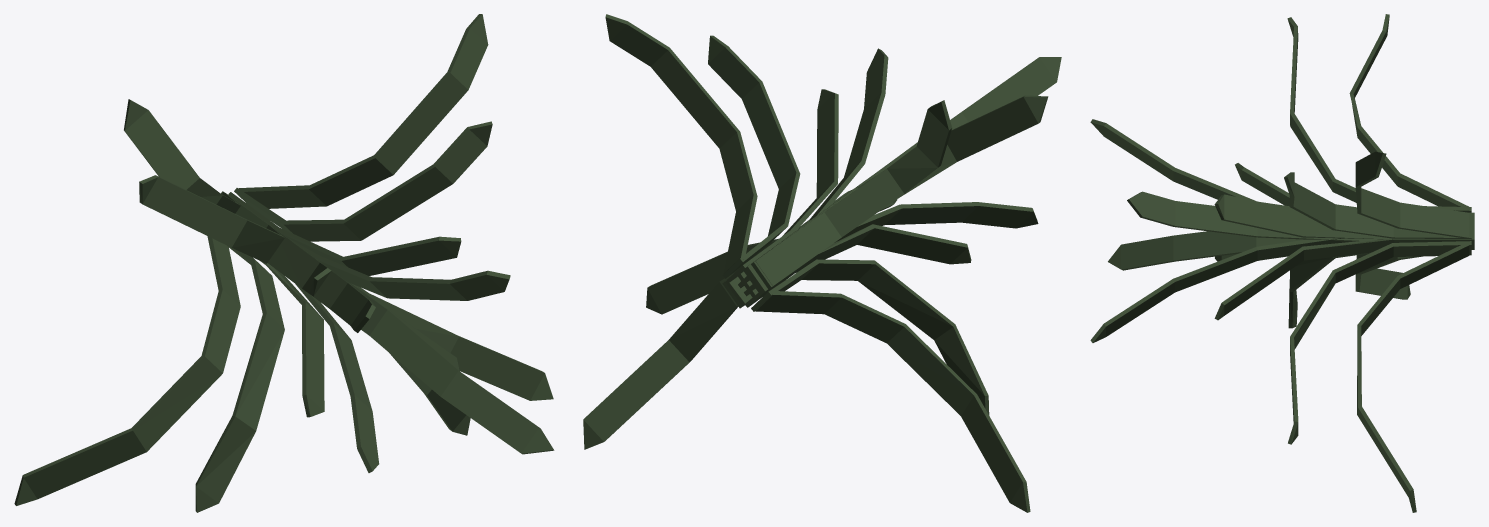
The model's file is plant-leafy-3.obj.
The picture shows the model from 3 angles, left to right: view 1: azimuth 30°, elevation 25°; view 2: azimuth 150°, elevation 25°; view 3: azimuth 270°, elevation 25°; orthographic projection. The views are drawn at different scales.
Parts seen in each view (by area): view 1: plant-leafy-3; view 2: plant-leafy-3; view 3: plant-leafy-3.
Boxes of the visible parts, left/top/right/bottom form: plant-leafy-3: left=14, top=14, right=554, bottom=512; plant-leafy-3: left=583, top=14, right=1061, bottom=512; plant-leafy-3: left=1090, top=14, right=1474, bottom=512.
Bounding box in the file's own units: 27.71 × 24.73 × 24.
